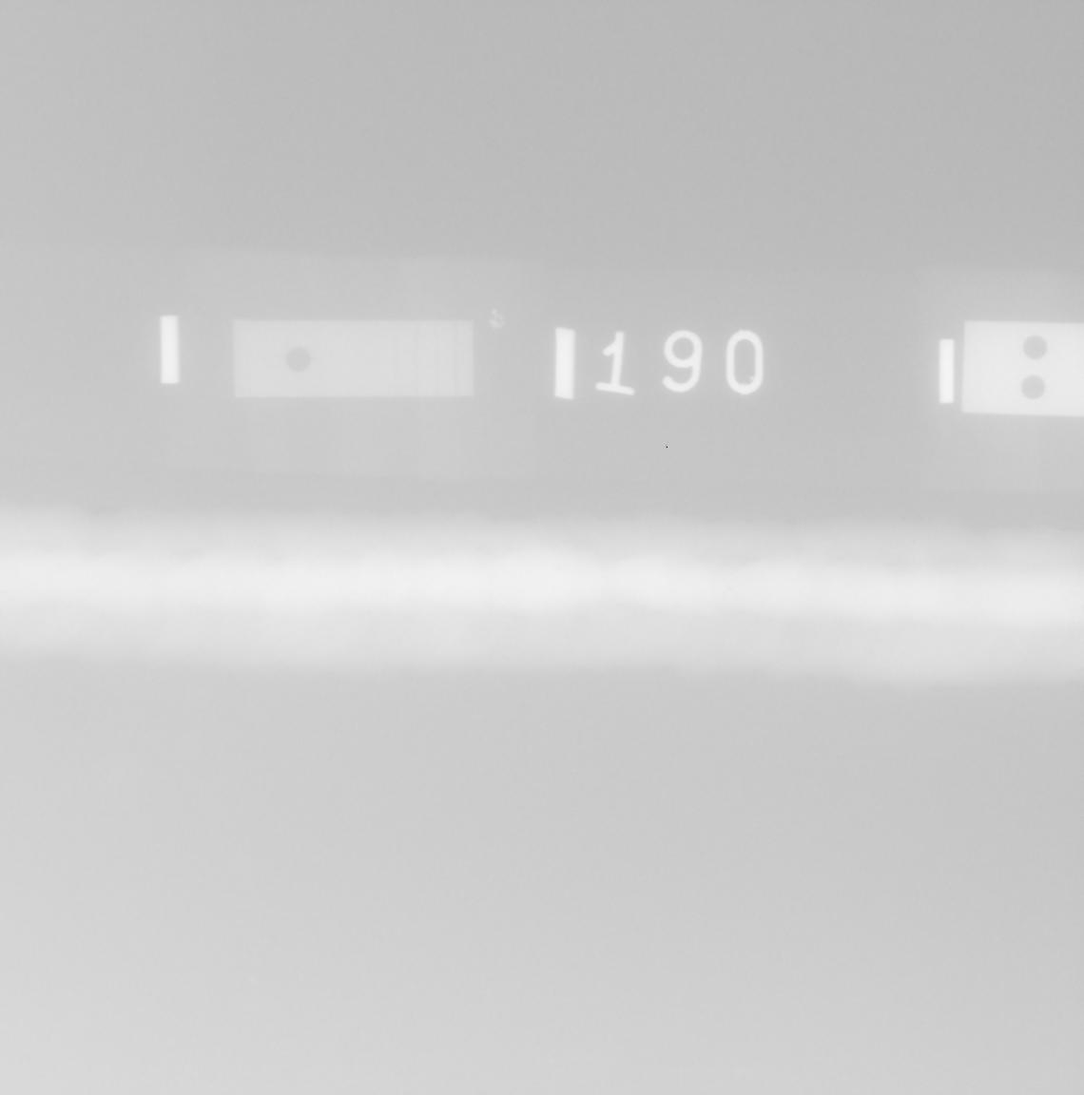Pore/Porosity: (727, 586, 734, 592)
Reference Standard 1: (233, 319, 473, 397)
